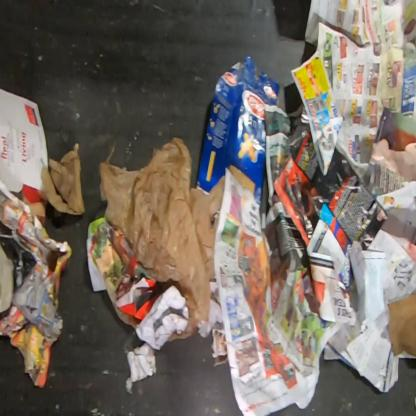cardboard: (196, 55, 281, 207), (0, 87, 49, 205), (386, 291, 416, 358)
soft_plastic: (98, 136, 226, 342)
